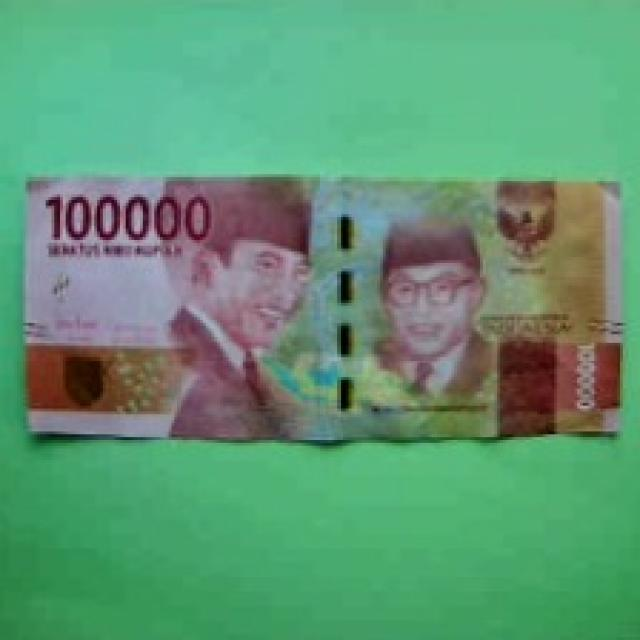lima puluh ribu rupiah: (7, 156, 640, 443)
